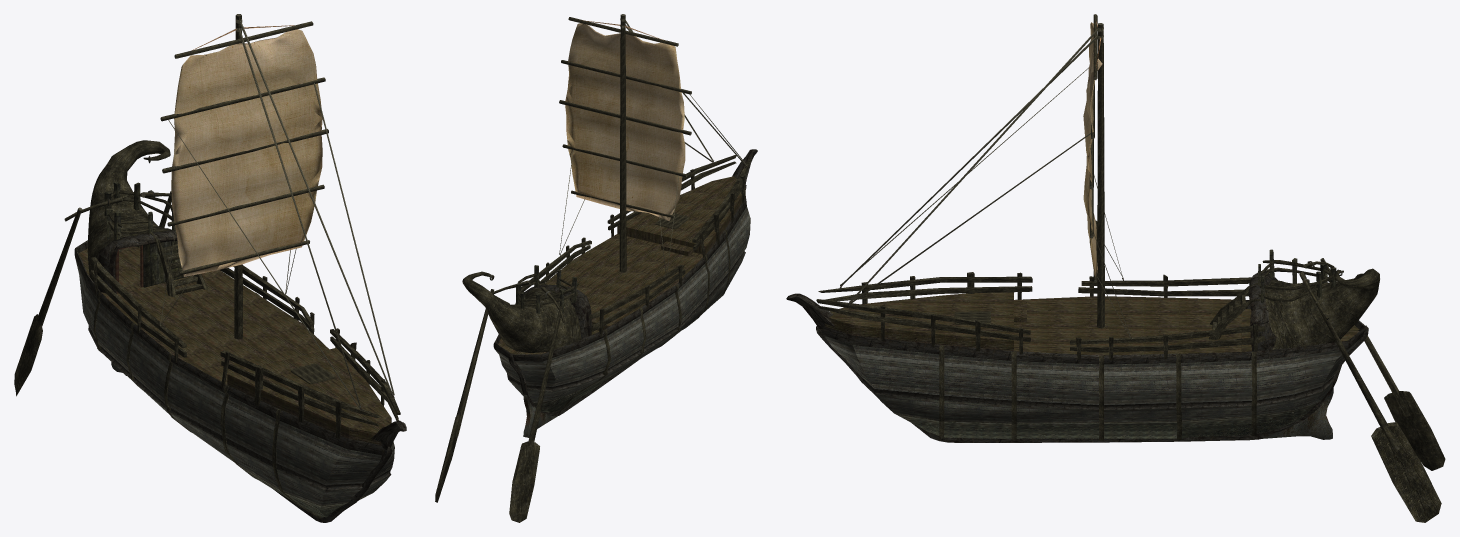
The model's file is ex_de_ship.obj.
3 views of the same model, side by side, from view 1: azimuth 30°, elevation 25°; view 2: azimuth 150°, elevation 25°; view 3: azimuth 270°, elevation 25° (orthographic). The views are drawn at different scales.
Parts seen in each view (by area): view 1: nifid_314-matrix_Tri_large_sailM-lib, nifid_324-matrix_Tri_Ex_DE_ship_0-lib, nifid_332-matrix_Tri_Ex_DE_ship_2-lib, nifid_213-matrix_Tri_bottom_railing01_0-lib, nifid_329-matrix_Tri_Ex_DE_ship_1-lib, nifid_231-matrix_Tri_newcabin_0-lib, nifid_239-matrix_Tri_Torus02_0-lib, nifid_321-matrix_Tri_Ex_T_stair_01_0-lib, nifid_221-matrix_Tri_backwall_0-lib, nifid_165-matrix_Tri_Cylinder59_0-lib, nifid_161-matrix_Tri_Cylinder58_0-lib, nifid_301-matrix_Tri_paddle01_0-lib (+13 smaller); view 2: nifid_314-matrix_Tri_large_sailM-lib, nifid_324-matrix_Tri_Ex_DE_ship_0-lib, nifid_332-matrix_Tri_Ex_DE_ship_2-lib, nifid_231-matrix_Tri_newcabin_0-lib, nifid_213-matrix_Tri_bottom_railing01_0-lib, nifid_329-matrix_Tri_Ex_DE_ship_1-lib, nifid_274-matrix_Tri_mast02_0-lib, nifid_301-matrix_Tri_paddle01_0-lib, nifid_270-matrix_Tri_Ex_DE_ship_oarleft_1-lib, nifid_239-matrix_Tri_Torus02_0-lib, nifid_263-matrix_Tri_Ex_DE_ship_OARright_1-lib, nifid_2-matrix_Tri_bottomrib-lib (+6 smaller); view 3: nifid_332-matrix_Tri_Ex_DE_ship_2-lib, nifid_324-matrix_Tri_Ex_DE_ship_0-lib, nifid_213-matrix_Tri_bottom_railing01_0-lib, nifid_329-matrix_Tri_Ex_DE_ship_1-lib, nifid_231-matrix_Tri_newcabin_0-lib, nifid_288-matrix_Tri_paddle02_0-lib, nifid_2-matrix_Tri_bottomrib-lib, nifid_274-matrix_Tri_mast02_0-lib, nifid_301-matrix_Tri_paddle01_0-lib, nifid_314-matrix_Tri_large_sailM-lib, nifid_239-matrix_Tri_Torus02_0-lib, nifid_125-matrix_Tri_rudder_0-lib (+9 smaller).
Part boxes in pixels (x1,y1,x2,y2): nifid_314-matrix_Tri_large_sailM-lib: (171,29,322,276); nifid_324-matrix_Tri_Ex_DE_ship_0-lib: (79,246,391,444); nifid_332-matrix_Tri_Ex_DE_ship_2-lib: (75,258,394,505); nifid_213-matrix_Tri_bottom_railing01_0-lib: (89,257,400,438); nifid_329-matrix_Tri_Ex_DE_ship_1-lib: (74,248,391,490); nifid_231-matrix_Tri_newcabin_0-lib: (87,140,171,281); nifid_239-matrix_Tri_Torus02_0-lib: (93,230,177,293); nifid_321-matrix_Tri_Ex_T_stair_01_0-lib: (150,229,207,296); nifid_221-matrix_Tri_backwall_0-lib: (143,241,192,287); nifid_165-matrix_Tri_Cylinder59_0-lib: (239,21,392,393); nifid_161-matrix_Tri_Cylinder58_0-lib: (238,28,361,406); nifid_301-matrix_Tri_paddle01_0-lib: (14,314,42,396); nifid_314-matrix_Tri_large_sailM-lib: (565,23,685,220); nifid_324-matrix_Tri_Ex_DE_ship_0-lib: (498,176,745,354); nifid_332-matrix_Tri_Ex_DE_ship_2-lib: (495,206,750,402); nifid_231-matrix_Tri_newcabin_0-lib: (462,271,581,352); nifid_213-matrix_Tri_bottom_railing01_0-lib: (521,155,750,336); nifid_329-matrix_Tri_Ex_DE_ship_1-lib: (493,198,746,391); nifid_274-matrix_Tri_mast02_0-lib: (619,15,626,272); nifid_301-matrix_Tri_paddle01_0-lib: (509,441,539,522); nifid_270-matrix_Tri_Ex_DE_ship_oarleft_1-lib: (526,306,562,466); nifid_239-matrix_Tri_Torus02_0-lib: (525,285,591,339); nifid_263-matrix_Tri_Ex_DE_ship_OARright_1-lib: (455,289,493,436); nifid_2-matrix_Tri_bottomrib-lib: (508,185,746,416); nifid_332-matrix_Tri_Ex_DE_ship_2-lib: (825,336,1361,423); nifid_324-matrix_Tri_Ex_DE_ship_0-lib: (824,292,1359,355); nifid_213-matrix_Tri_bottom_railing01_0-lib: (816,272,1265,360); nifid_329-matrix_Tri_Ex_DE_ship_1-lib: (821,326,1365,409); nifid_231-matrix_Tri_newcabin_0-lib: (1265,268,1379,349); nifid_288-matrix_Tri_paddle02_0-lib: (1371,422,1441,522); nifid_2-matrix_Tri_bottomrib-lib: (816,325,1368,442); nifid_274-matrix_Tri_mast02_0-lib: (1097,24,1104,328); nifid_301-matrix_Tri_paddle01_0-lib: (1384,391,1445,470); nifid_314-matrix_Tri_large_sailM-lib: (1083,22,1102,276); nifid_239-matrix_Tri_Torus02_0-lib: (1248,271,1277,351); nifid_125-matrix_Tri_rudder_0-lib: (1262,388,1333,439).
Bounding box in the file's own units: 16.91 × 48.95 × 62.04.
